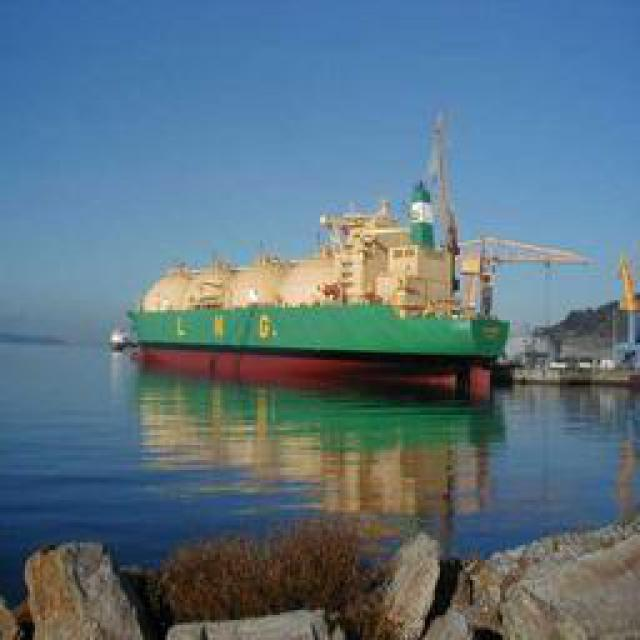Ship: (126, 181, 527, 414)
